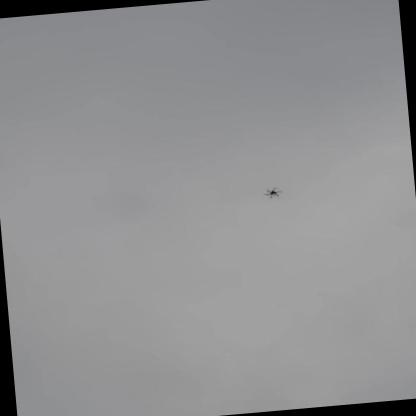drone: (261, 186, 283, 199)
